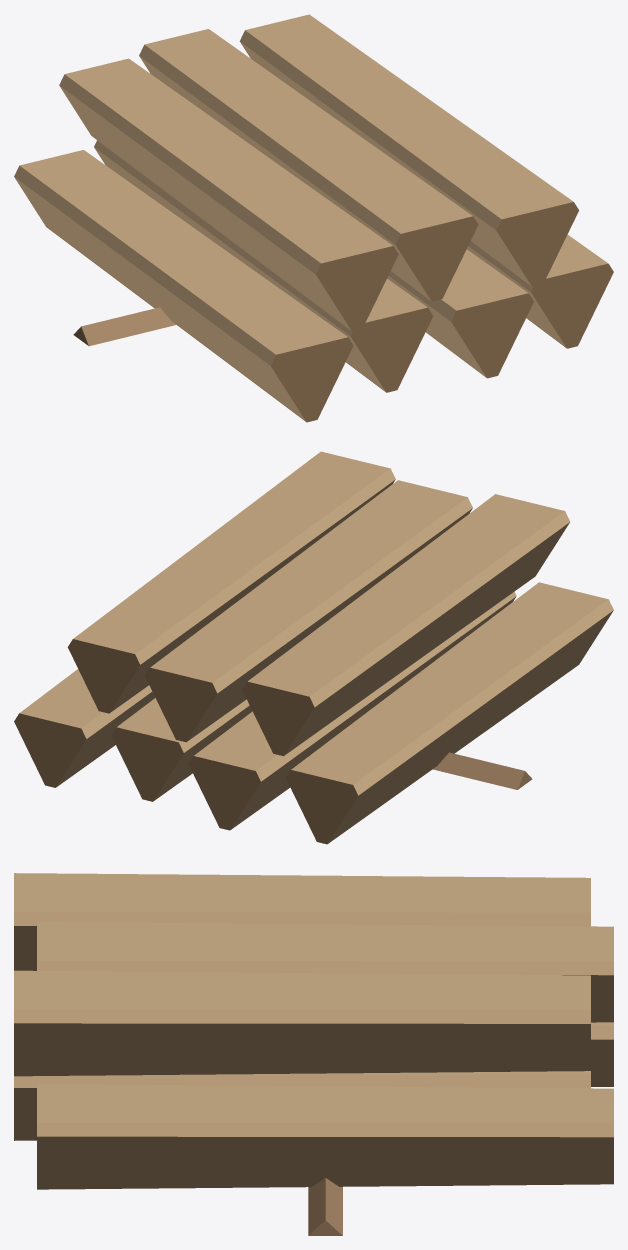
The model's file is firewood.glb.
3 views of the same model, one above another, from view 1: azimuth 30°, elevation 25°; view 2: azimuth 150°, elevation 25°; view 3: azimuth 270°, elevation 25° (orthographic). The views are drawn at different scales.
Parts seen in each view (by area): view 1: firewood; view 2: firewood; view 3: firewood.
Part boxes in pixels (bbox=[...]): firewood: bbox=[14, 14, 613, 422]; firewood: bbox=[14, 451, 613, 844]; firewood: bbox=[14, 873, 613, 1235].
Size of the model in its own units: 0.5 by 0.165 by 0.52.
